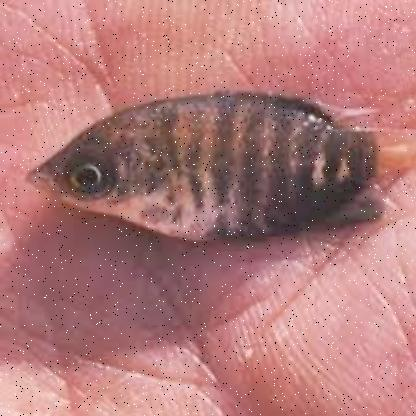gurame: (24, 90, 382, 244)
